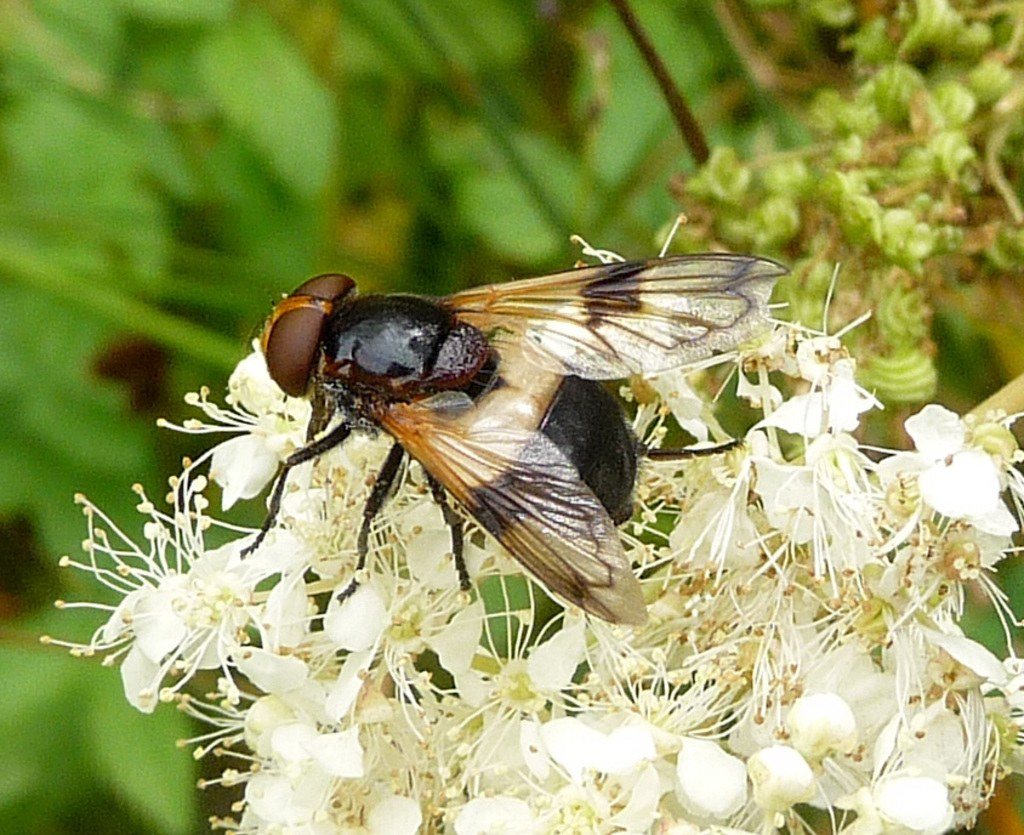bee: (200, 237, 786, 654)
insect: (38, 211, 1022, 834), (79, 522, 267, 711)
